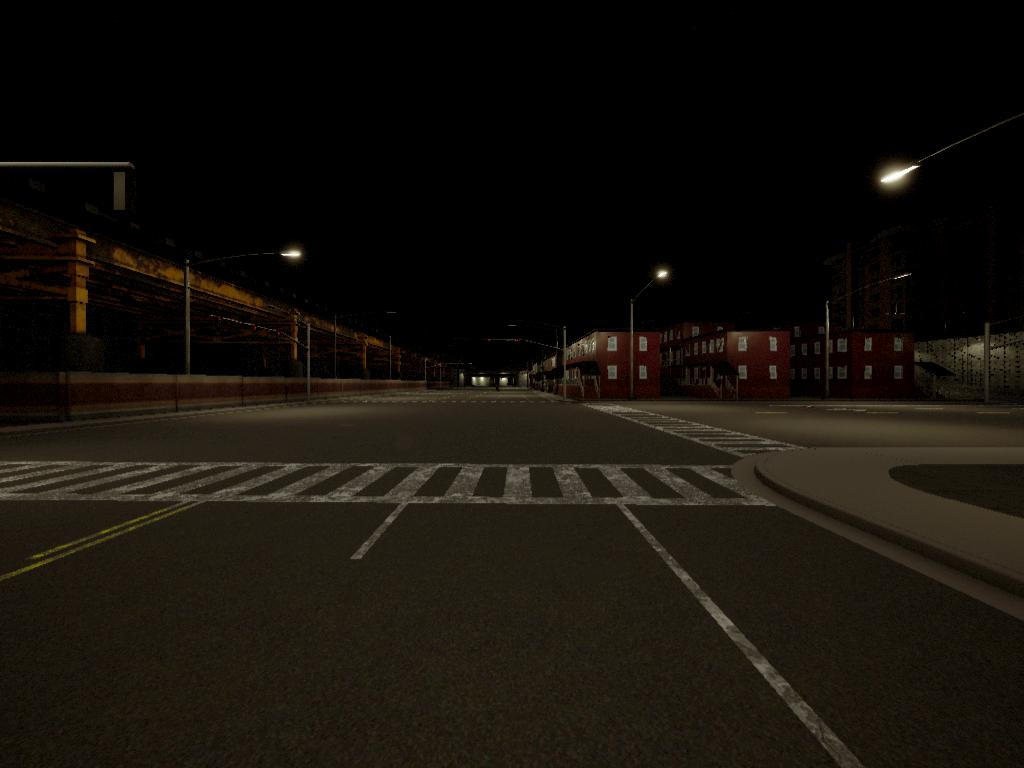traffic_light: (516, 339, 521, 345), (488, 339, 493, 344)
